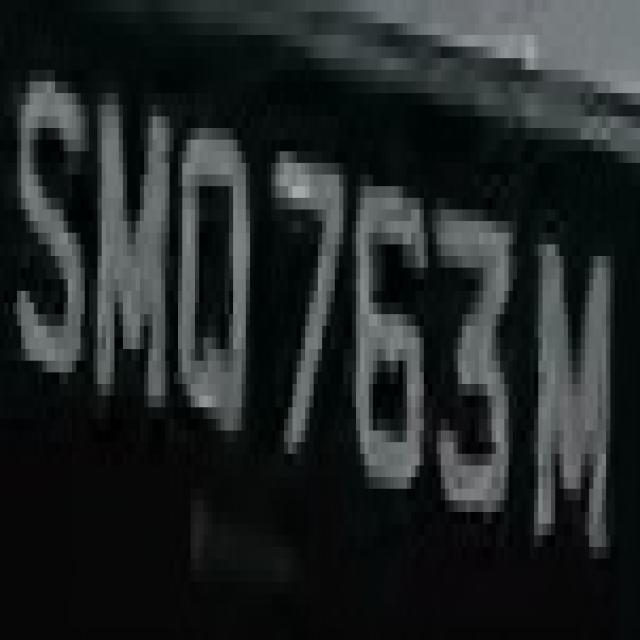3: (432, 163, 517, 547)
6: (343, 128, 432, 524)
7: (258, 105, 352, 512)
M: (526, 210, 618, 558), (93, 58, 170, 407)
Q: (170, 81, 254, 454)
S: (8, 23, 94, 349)
